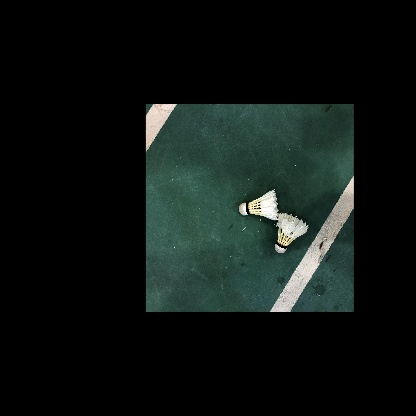ball_single: (275, 213, 309, 253), (239, 190, 279, 220)
